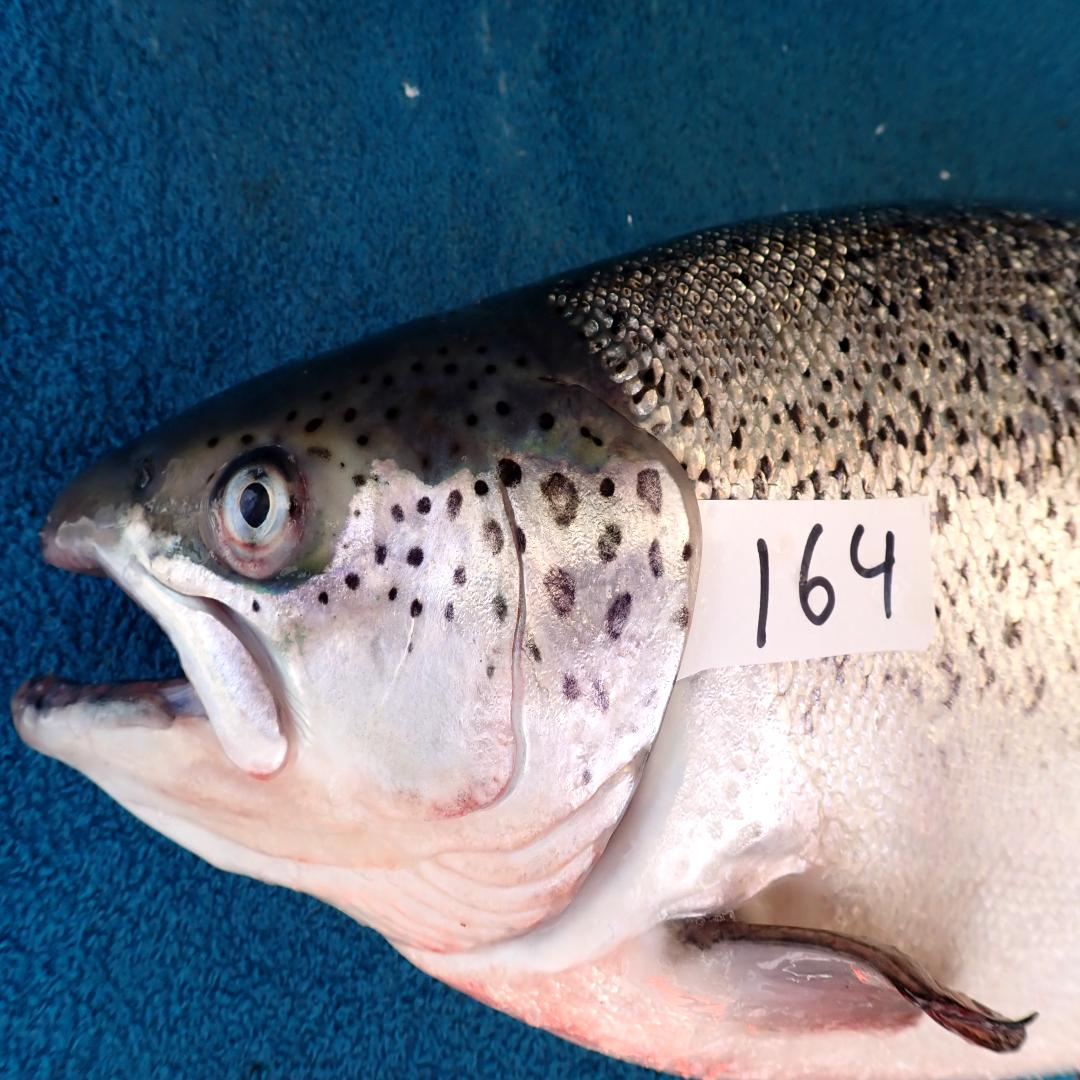roi: (288, 442, 696, 965)
